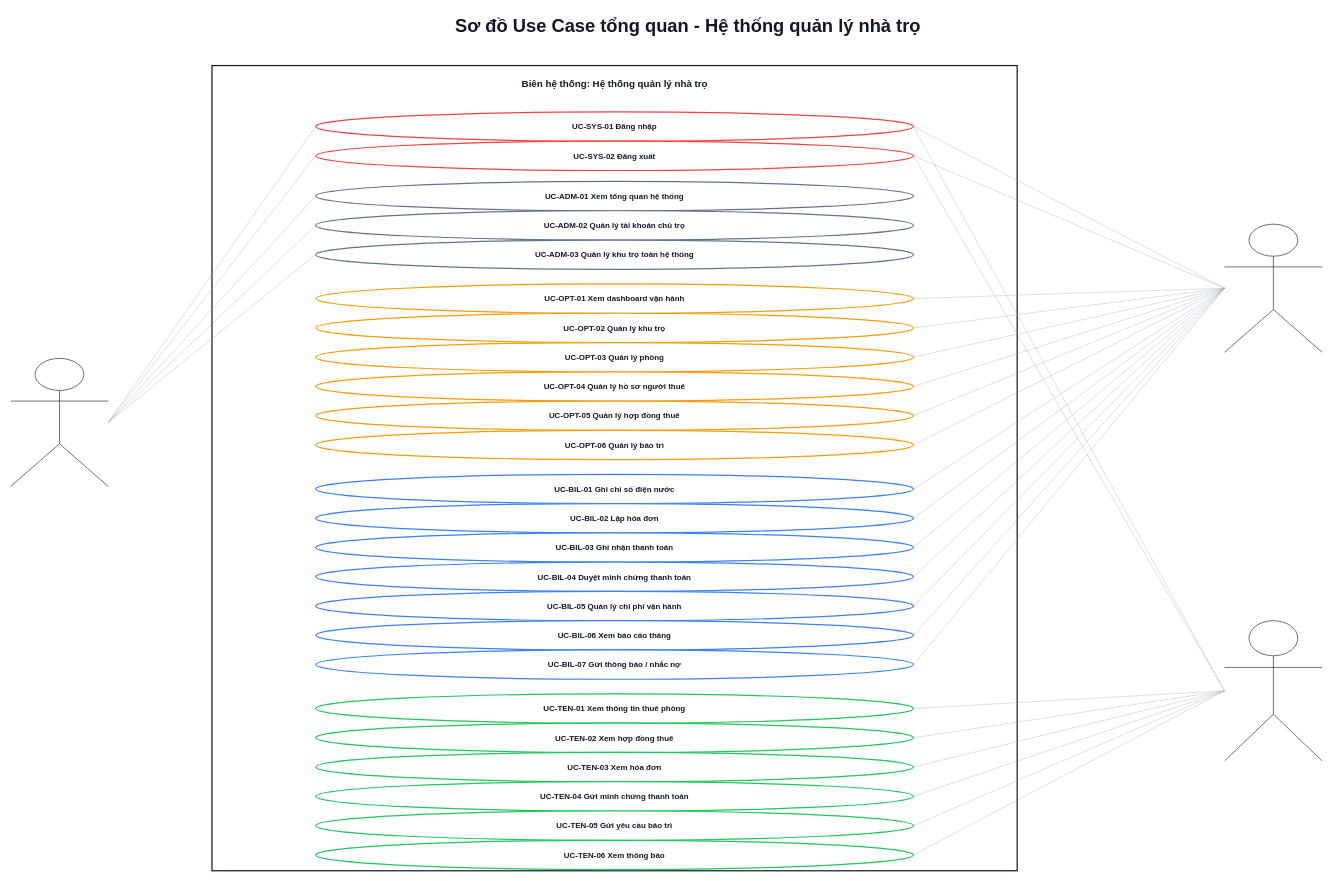
Some shapes in this 1333 by 881 pixel diagram are drawn without their labels. Here are the shapes that lost their labels. From the top down, the centre of each, then its label:
(1273,288): CHỦ TRỌ
(59,422): ADMIN
(1273,690): NGƯỜI THUÊ PHÒNG
